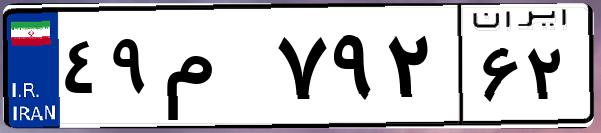2: (385, 28, 445, 110), (525, 38, 570, 115)
4: (57, 26, 110, 100)
6: (475, 38, 525, 113)
7: (270, 28, 330, 110)
9: (330, 28, 385, 110), (110, 28, 158, 98)
م: (158, 20, 270, 120)
